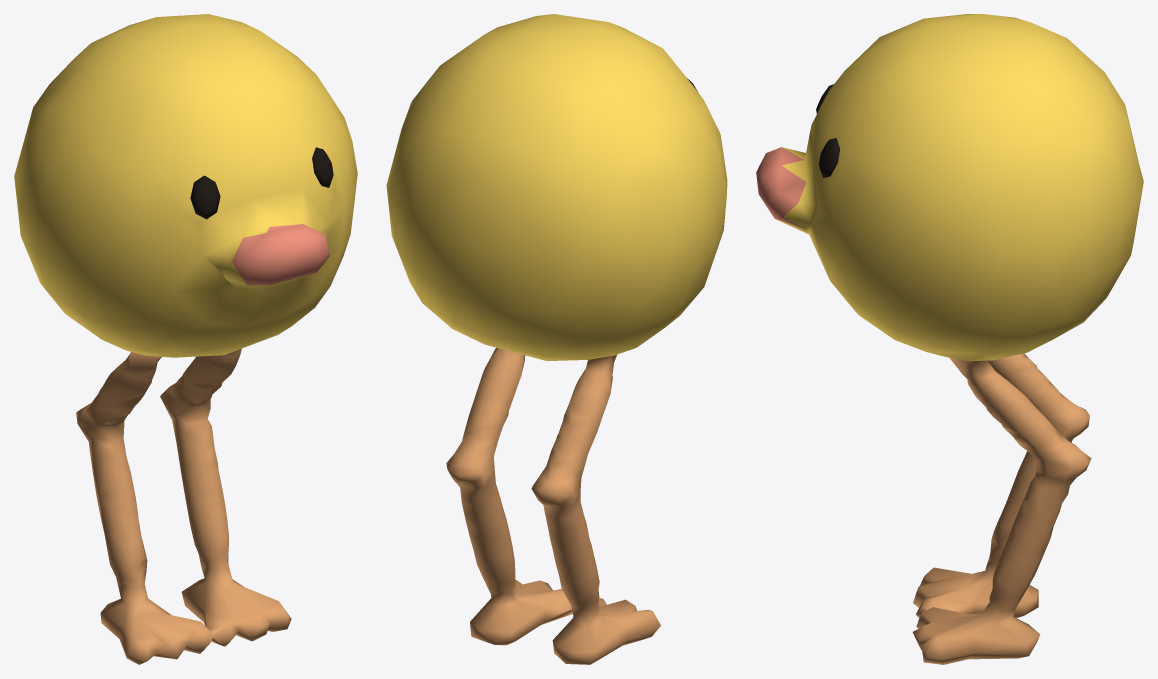
The model's file is swiftbeak.glb.
3 renders of one model, left to right at view 1: azimuth 30°, elevation 25°; view 2: azimuth 150°, elevation 25°; view 3: azimuth 270°, elevation 25°, orthographic.
Parts seen in each view (by area): view 1: swiftbeak, swiftbeak_face; view 2: swiftbeak; view 3: swiftbeak, swiftbeak_face.
Part boxes in pixels (x1=…): swiftbeak: x1=14, y1=14, x2=357, y2=664; swiftbeak_face: x1=190, y1=147, x2=333, y2=219; swiftbeak: x1=386, y1=14, x2=727, y2=664; swiftbeak: x1=756, y1=14, x2=1143, y2=664; swiftbeak_face: x1=816, y1=84, x2=840, y2=178.
Size of the model in its own units: 0.6102 by 1.2 by 0.6973.
